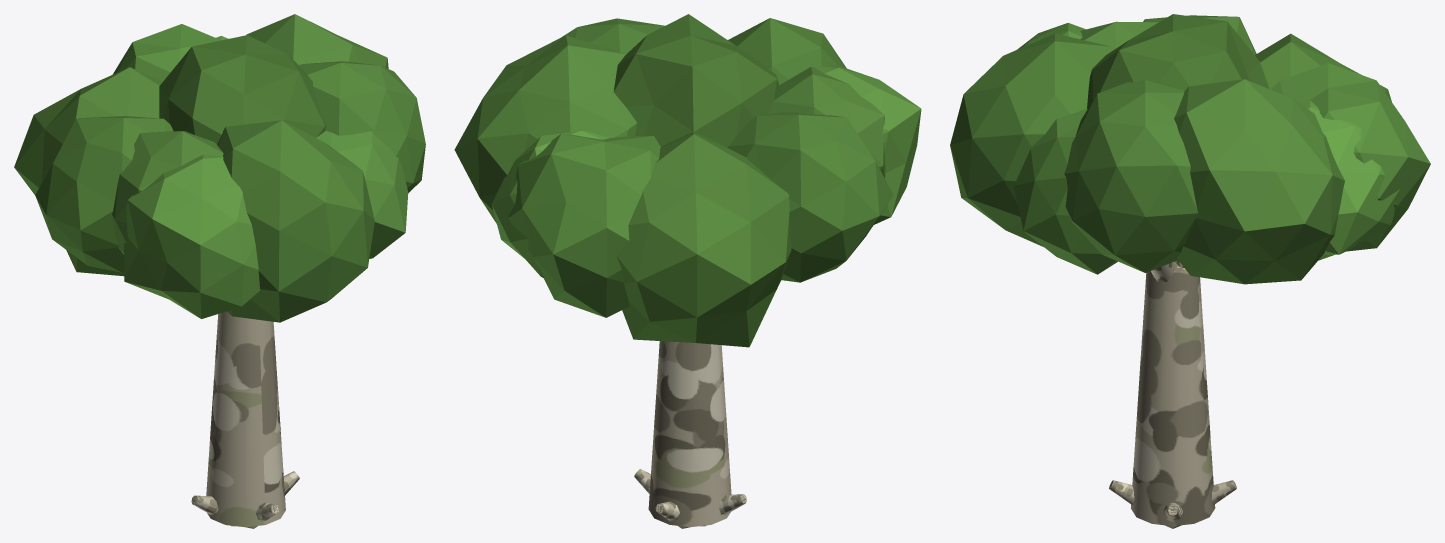
File: cinar.glb
The picture shows the model from 3 angles, left to right: view 1: azimuth 30°, elevation 25°; view 2: azimuth 150°, elevation 25°; view 3: azimuth 270°, elevation 25°; orthographic projection. The views are drawn at different scales.
Parts seen in each view (by area): view 1: cinar; view 2: cinar; view 3: cinar.
Boxes of the visible parts, x1,y1,x2,y2 form: cinar: (14,14,425,528); cinar: (454,14,921,528); cinar: (950,14,1430,528).
Bounding box in the file's own units: 6.88 × 8.33 × 7.4.
Materials: 10 (1 with a texture image).
